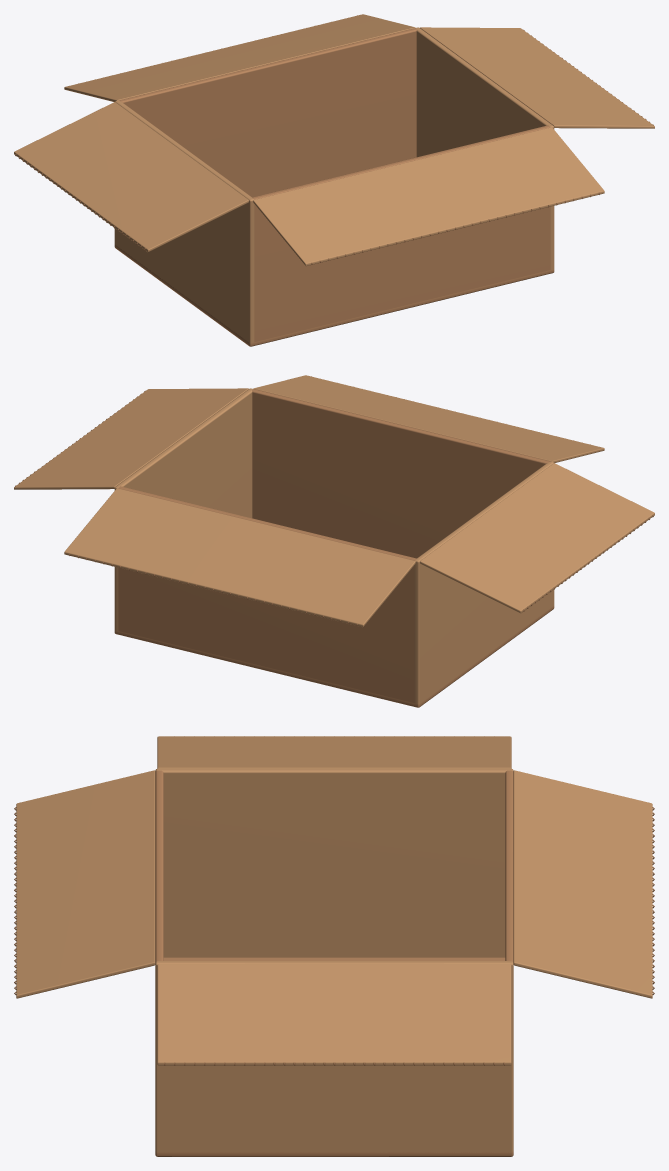
The picture shows the model from 3 angles, top to bottom: view 1: azimuth 30°, elevation 25°; view 2: azimuth 150°, elevation 25°; view 3: azimuth 270°, elevation 25°; orthographic projection. The views are drawn at different scales.
Parts seen in each view (by area): view 1: box; view 2: box; view 3: box.
Part boxes in pixels (x1=…): box: x1=14, y1=14, x2=654, y2=346; box: x1=14, y1=375, x2=654, y2=707; box: x1=14, y1=736, x2=654, y2=1156.
Bounding box in the file's own units: 0.7363 × 0.203 × 0.6083.
